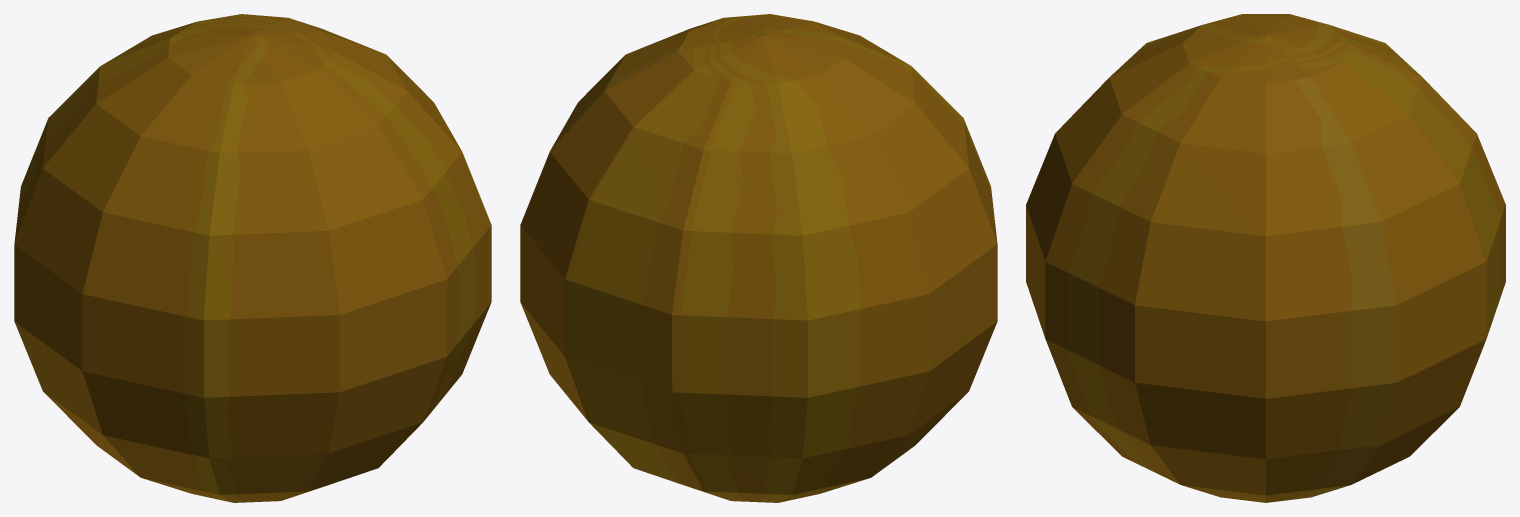
The model's file is roulette_ball.obj.
The picture shows the model from 3 angles, left to right: view 1: azimuth 30°, elevation 25°; view 2: azimuth 150°, elevation 25°; view 3: azimuth 270°, elevation 25°; orthographic projection.
Visible parts, largest first — view 1: roulette_ball; view 2: roulette_ball; view 3: roulette_ball.
Boxes of the visible parts, left/top/right/bottom form: roulette_ball: left=14, top=14, right=491, bottom=502; roulette_ball: left=520, top=14, right=997, bottom=502; roulette_ball: left=1026, top=14, right=1505, bottom=502.
Bounding box in the file's own units: 0.4316 × 0.4473 × 0.436.
1 material, 1 textured.
